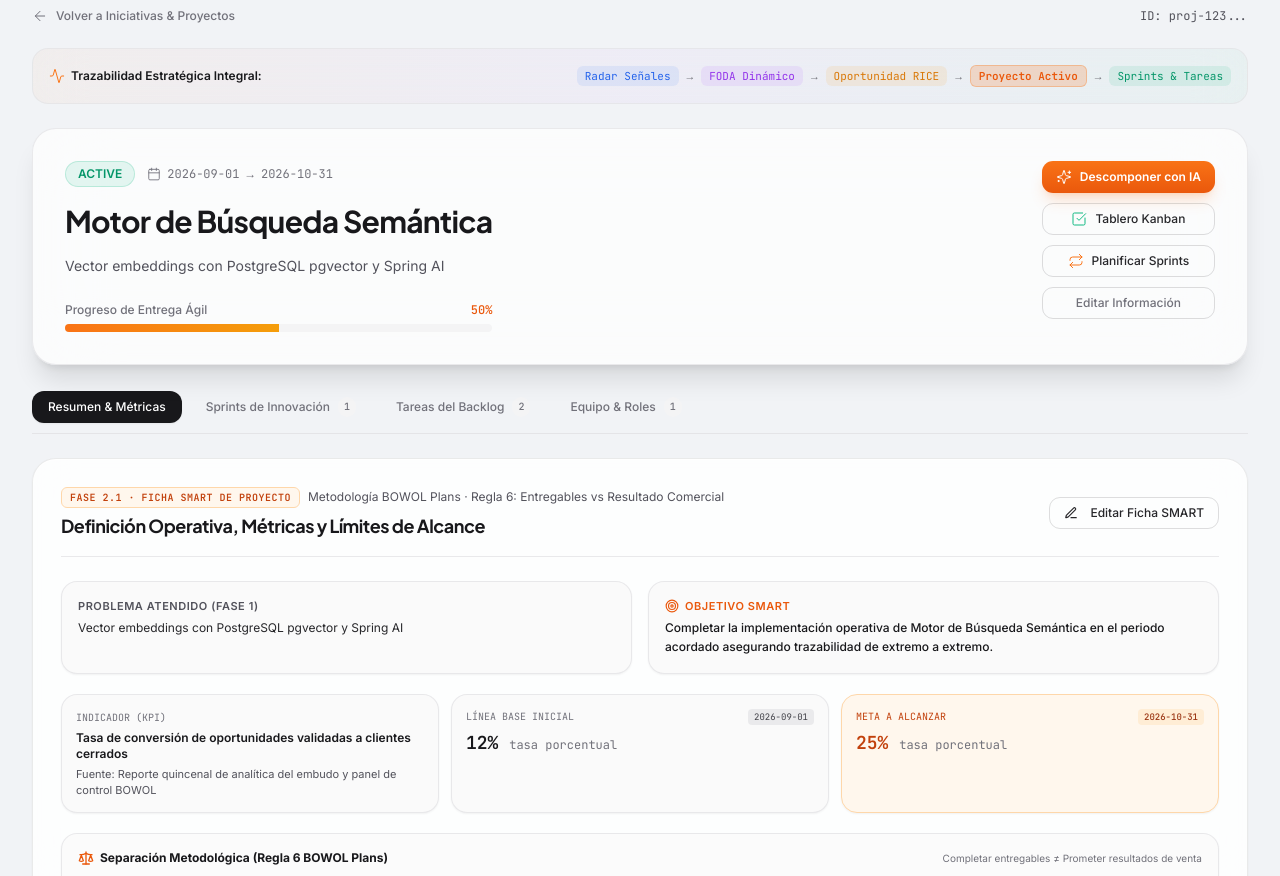
Test: ProjectDetailPage Component (Fase 7 - Trazabilidad y Detalle) › permite alternar entre pestañas y ver sprints y tareas
Expected: the heading "Motor de Búsqueda Semántica" is shown, [65, 203, 492, 239]
Note: Switch to Sprints tab
Click the button "Sprints de Innovación 1".
click(281, 407)  # box [190, 389, 372, 425]
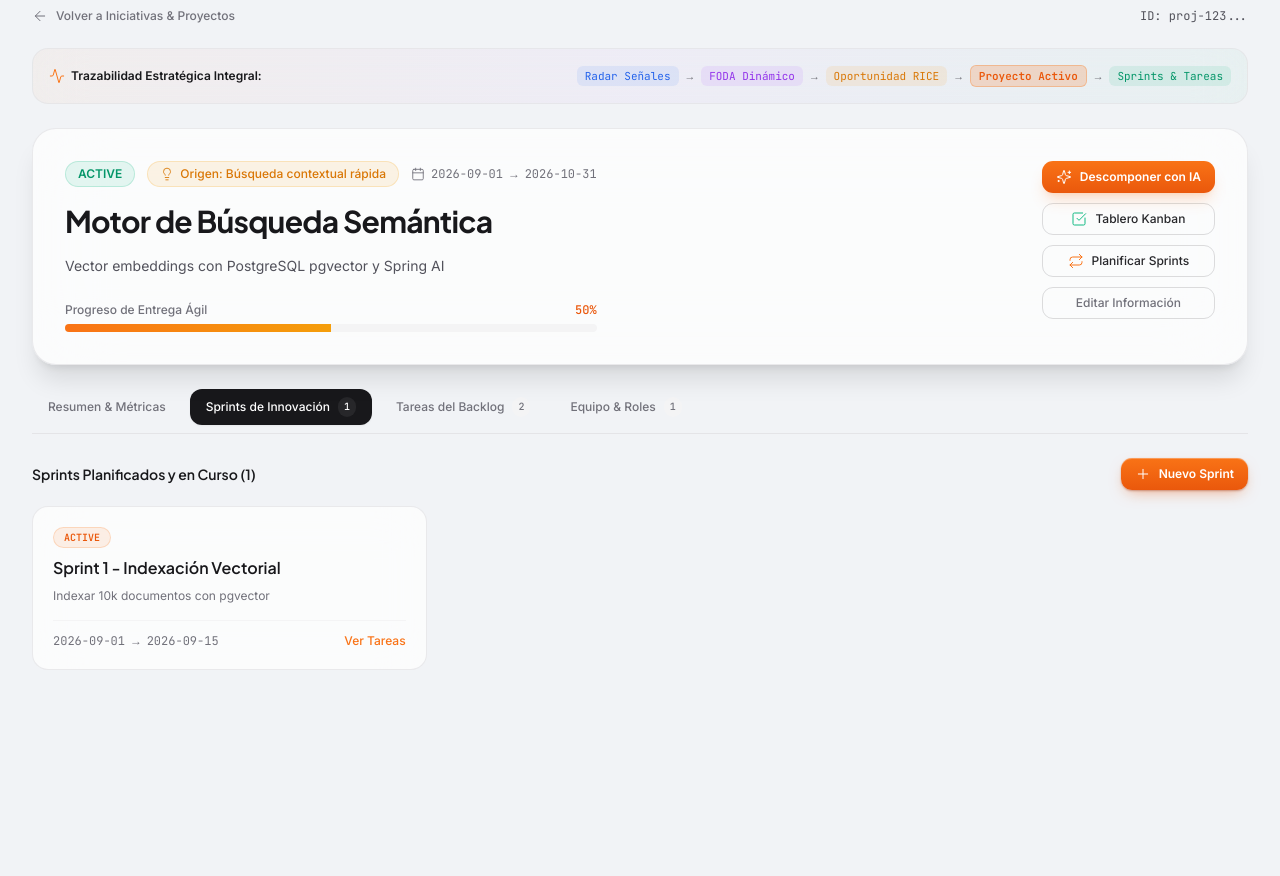
Expected: the heading "Sprint 1 - Indexación Vectorial" is shown, [53, 557, 281, 578]
Note: Switch to Tasks tab
Click the button "Tareas del Backlog 2".
click(463, 407)  # box [380, 389, 546, 425]
(page scrolled)
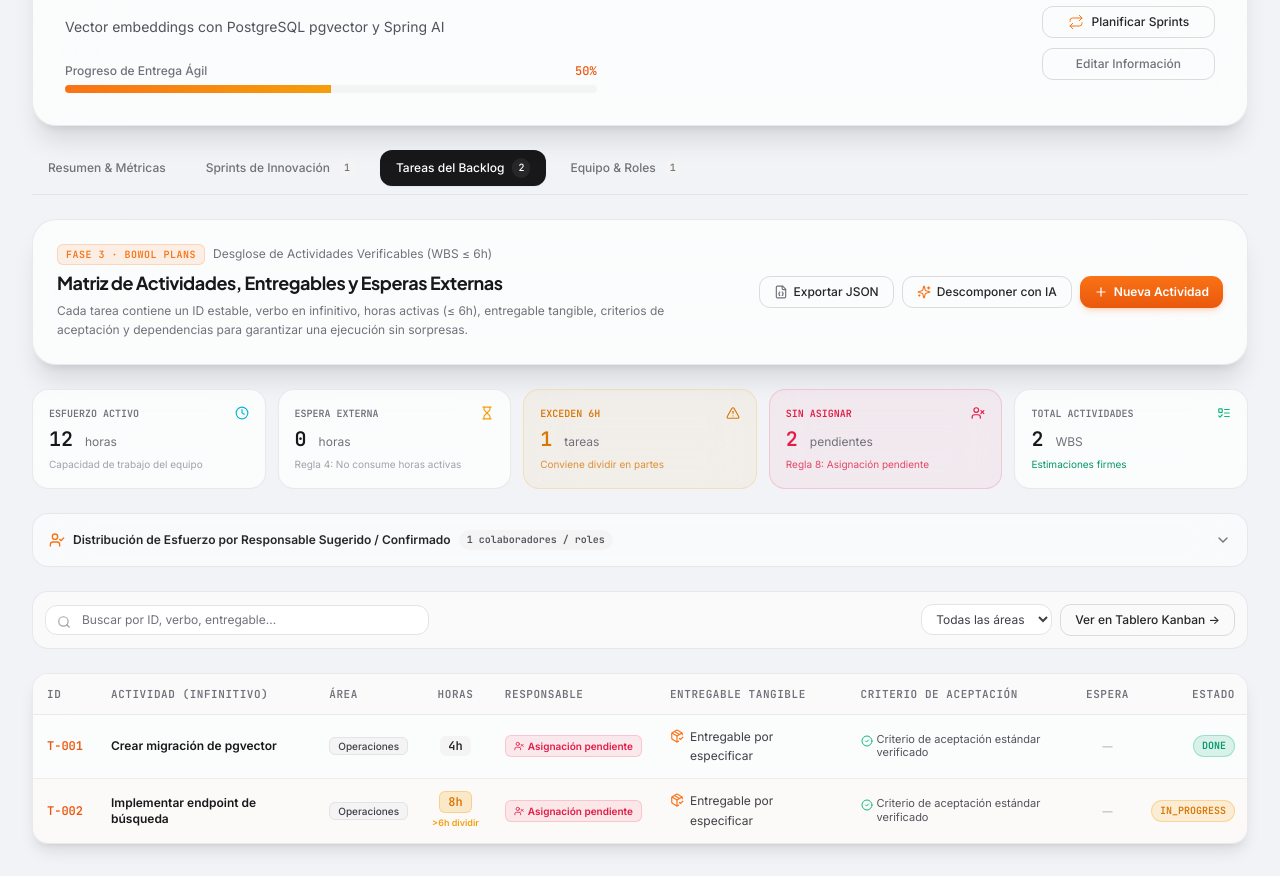
Expected: the text "Crear migración de pgvector" is shown, [111, 738, 277, 754]
Expected: the text "Implementar endpoint de búsqueda" is shown, [111, 795, 256, 826]
